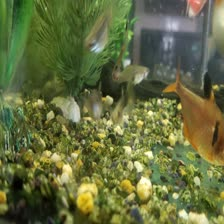Guppy: (72, 6, 115, 62), (78, 86, 104, 132), (115, 55, 149, 86)
Transparente: (159, 60, 223, 172)
